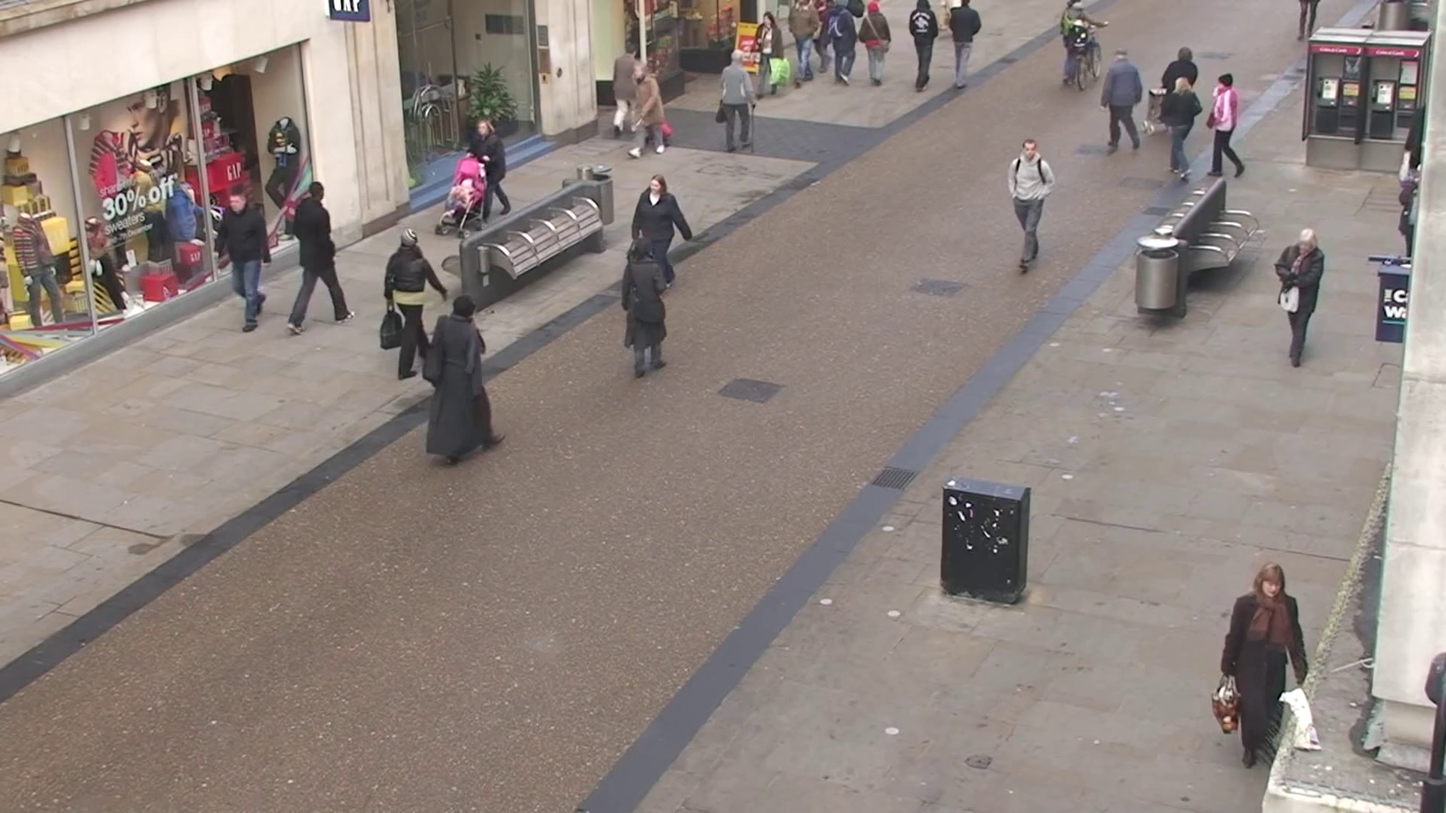person: (1218, 560, 1312, 771), (421, 292, 495, 465), (283, 178, 352, 331), (383, 228, 452, 380), (218, 186, 273, 333), (1274, 227, 1327, 369), (621, 236, 674, 376), (629, 175, 694, 277), (1008, 136, 1057, 271), (1159, 68, 1203, 184), (716, 38, 760, 151), (1101, 46, 1146, 155), (623, 59, 673, 157), (1204, 72, 1246, 180), (470, 114, 512, 221), (820, 0, 855, 101), (782, 0, 818, 87), (1058, 8, 1094, 91), (947, 0, 981, 87), (858, 1, 892, 87), (907, 1, 938, 90), (755, 12, 786, 101)
